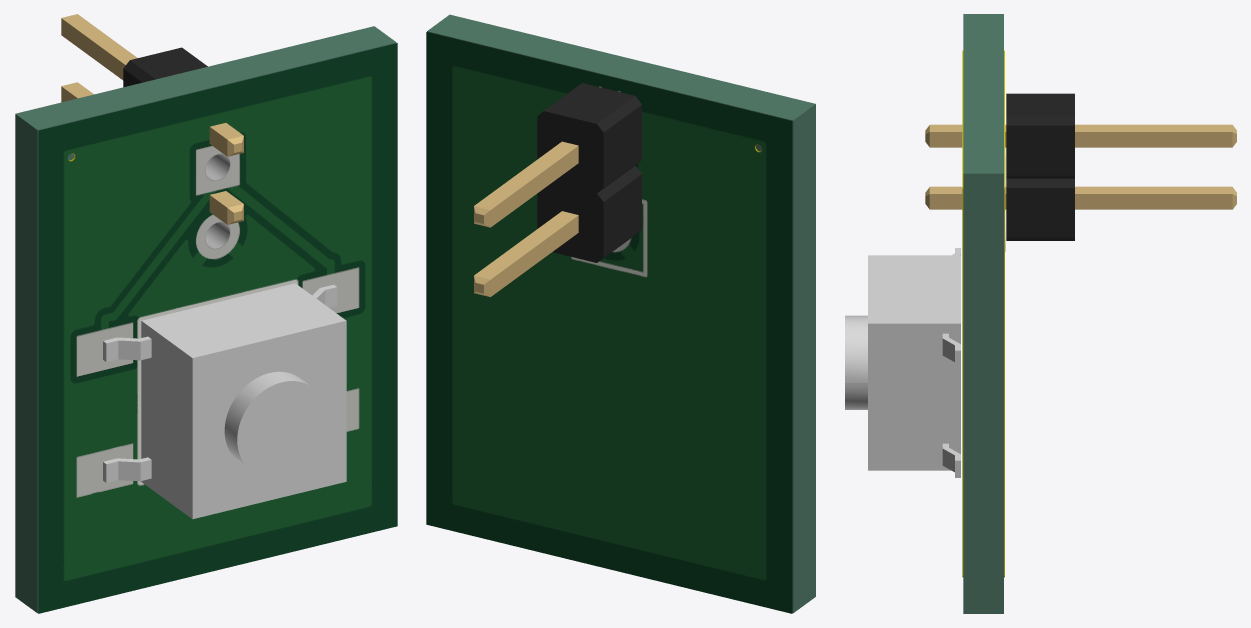
The model's file is assembly.glb.
3 renders of one model, left to right at view 1: azimuth 30°, elevation 25°; view 2: azimuth 150°, elevation 25°; view 3: azimuth 270°, elevation 25°, orthographic. The views are drawn at different scales.
Visible parts, largest first — view 1: keys_PCB top surface texture overlay, o1.1.1.1, o1.6, o1.2.1, o1.4; view 2: keys_PCB bottom surface texture overlay, o1.2.1, o1.6; view 3: o1.6, o1.1.1.1, o1.2.1, o1.3.
Boxes of the visible parts, x1=… form: keys_PCB top surface texture overlay: x1=38, y1=43, x2=397, y2=613; o1.1.1.1: x1=103, y1=283, x2=346, y2=519; o1.6: x1=15, y1=26, x2=396, y2=613; o1.2.1: x1=61, y1=14, x2=243, y2=224; o1.4: x1=205, y1=153, x2=230, y2=249; keys_PCB bottom surface texture overlay: x1=426, y1=32, x2=792, y2=613; o1.2.1: x1=474, y1=83, x2=641, y2=296; o1.6: x1=427, y1=14, x2=815, y2=613; o1.6: x1=963, y1=14, x2=1003, y2=613; o1.1.1.1: x1=845, y1=248, x2=960, y2=477; o1.2.1: x1=925, y1=93, x2=1236, y2=240; o1.3: x1=962, y1=50, x2=1004, y2=577.
Bounding box in the file's own units: 0.014 × 0.018 × 0.0145.
Materials: 8 (2 with a texture image).
